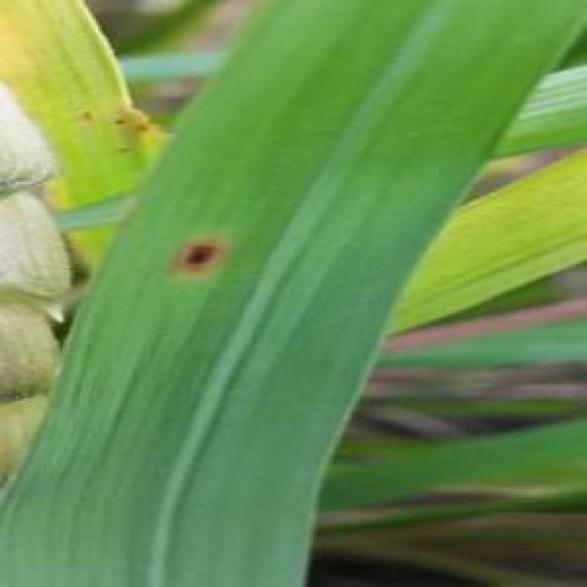Brown_Spot: (158, 213, 237, 292), (70, 102, 96, 125), (125, 115, 153, 135), (110, 139, 137, 156), (106, 110, 129, 129)
